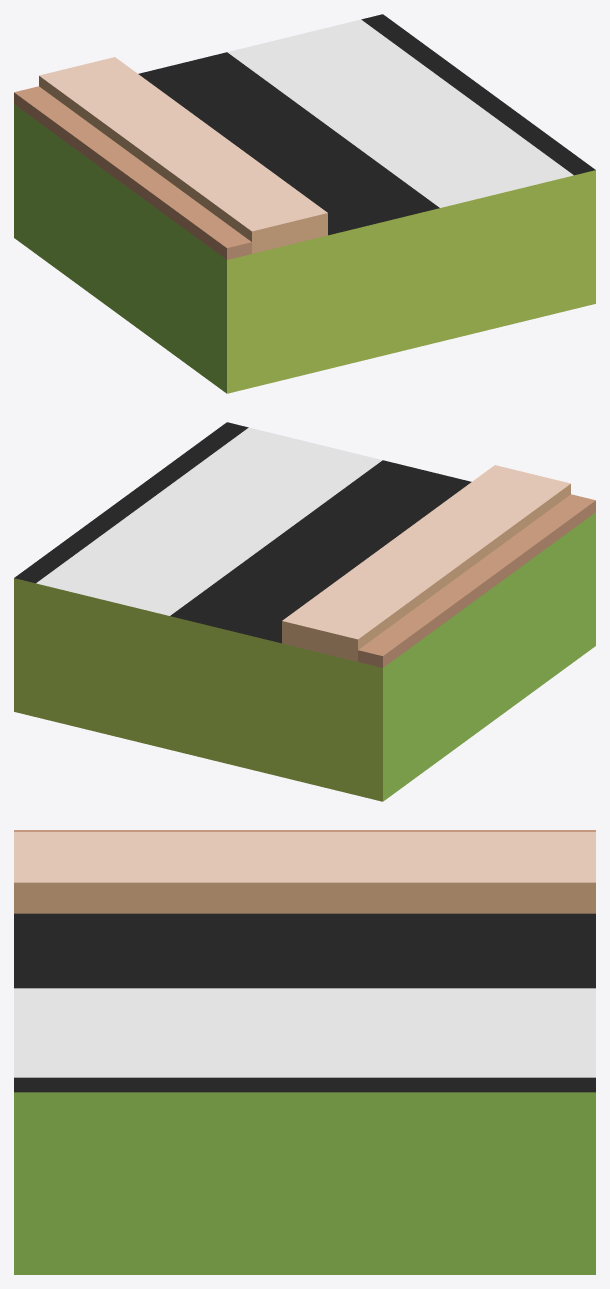
Rendered from floor_crosswalk1.fbx.
3 renders of one model, top to bottom at view 1: azimuth 30°, elevation 25°; view 2: azimuth 150°, elevation 25°; view 3: azimuth 270°, elevation 25°, orthographic. The views are drawn at different scales.
Parts seen in each view (by area): view 1: floor_crosswalk1; view 2: floor_crosswalk1; view 3: floor_crosswalk1.
Part boxes in pixels (box(x1,y1,x2,y2)): floor_crosswalk1: box(14, 14, 595, 393); floor_crosswalk1: box(14, 422, 595, 801); floor_crosswalk1: box(14, 830, 595, 1274).
Bounding box in the file's own units: 100 × 40.47 × 100.
